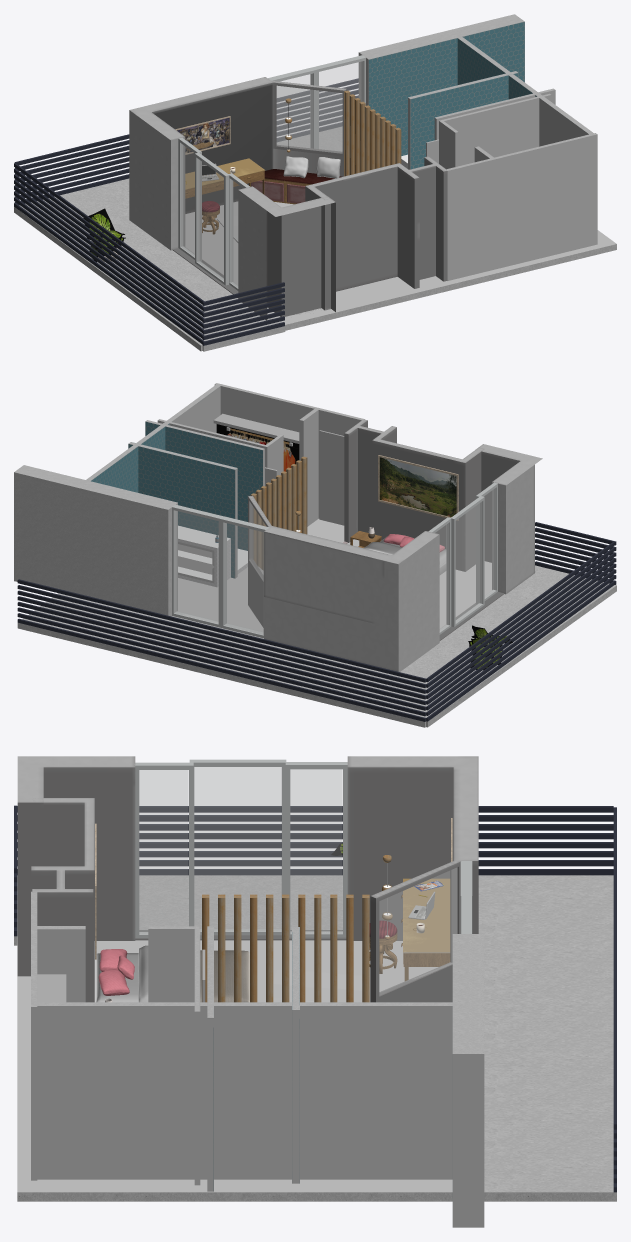
3 views of the same model, one above another, from view 1: azimuth 30°, elevation 25°; view 2: azimuth 150°, elevation 25°; view 3: azimuth 270°, elevation 25° (orthographic). The views are drawn at different scales.
Visible parts, largest first — view 1: mut_primo, mur secondaire.001, balcon.001, sol, vitres, portes_vitrees, separations, banquette, burreau, cadre1, coussins_banquette, tabouret_lp; view 2: mur secondaire.001, mut_primo, balcon.001, sol, vitres, portes_vitrees, cadre2, separations, bloc_sdb, Cube, Plane, lit; view 3: mur secondaire.001, sol, mut_primo, vitres, balcon.001, separations, portes_vitrees, lit, burreau, tapis, Cube, tabouret_lp.
Boxes of the visible parts, x1,y1,x2,y2 form: mut_primo: (129, 77, 446, 320); mur secondaire.001: (358, 14, 597, 280); balcon.001: (14, 78, 358, 345); sol: (14, 126, 616, 351); vitres: (181, 61, 363, 286); portes_vitrees: (178, 55, 365, 290); separations: (344, 90, 401, 176); banquette: (251, 169, 341, 204); burreau: (185, 158, 265, 198); cadre1: (175, 116, 230, 154); coussins_banquette: (283, 156, 340, 178); tabouret_lp: (202, 201, 219, 234); mur secondaire.001: (14, 383, 364, 616); mut_primo: (248, 419, 542, 671); balcon.001: (17, 522, 616, 721); sol: (17, 519, 616, 727); vitres: (174, 488, 495, 634); portes_vitrees: (171, 482, 497, 638); cadre2: (378, 455, 458, 520); separations: (250, 456, 307, 569); bloc_sdb: (178, 525, 247, 587); Cube: (213, 413, 299, 446); Plane: (216, 424, 299, 471); lit: (363, 534, 446, 574); mur secondaire.001: (31, 891, 484, 1227); sol: (14, 875, 616, 1201); mut_primo: (17, 756, 478, 1002); vitres: (139, 767, 457, 994); balcon.001: (14, 805, 616, 1192); separations: (202, 894, 369, 1002); portes_vitrees: (134, 759, 472, 937); lit: (95, 945, 249, 1002); burreau: (401, 878, 450, 980); tapis: (265, 970, 409, 1002); Cube: (37, 974, 66, 1002); tabouret_lp: (369, 920, 397, 973).
Bounding box in the file's own units: 12.2 × 2.93 × 8.74.
